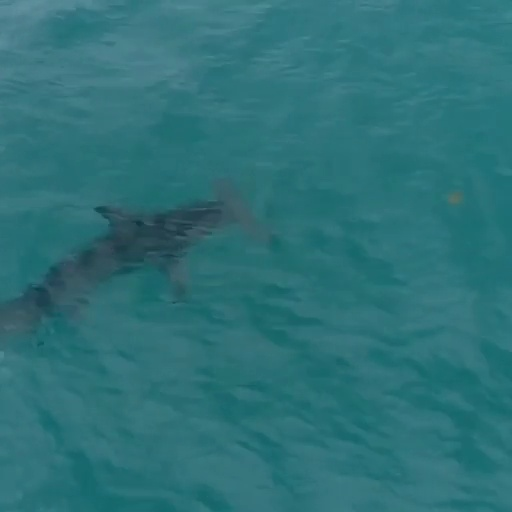shark: (3, 174, 275, 339)
